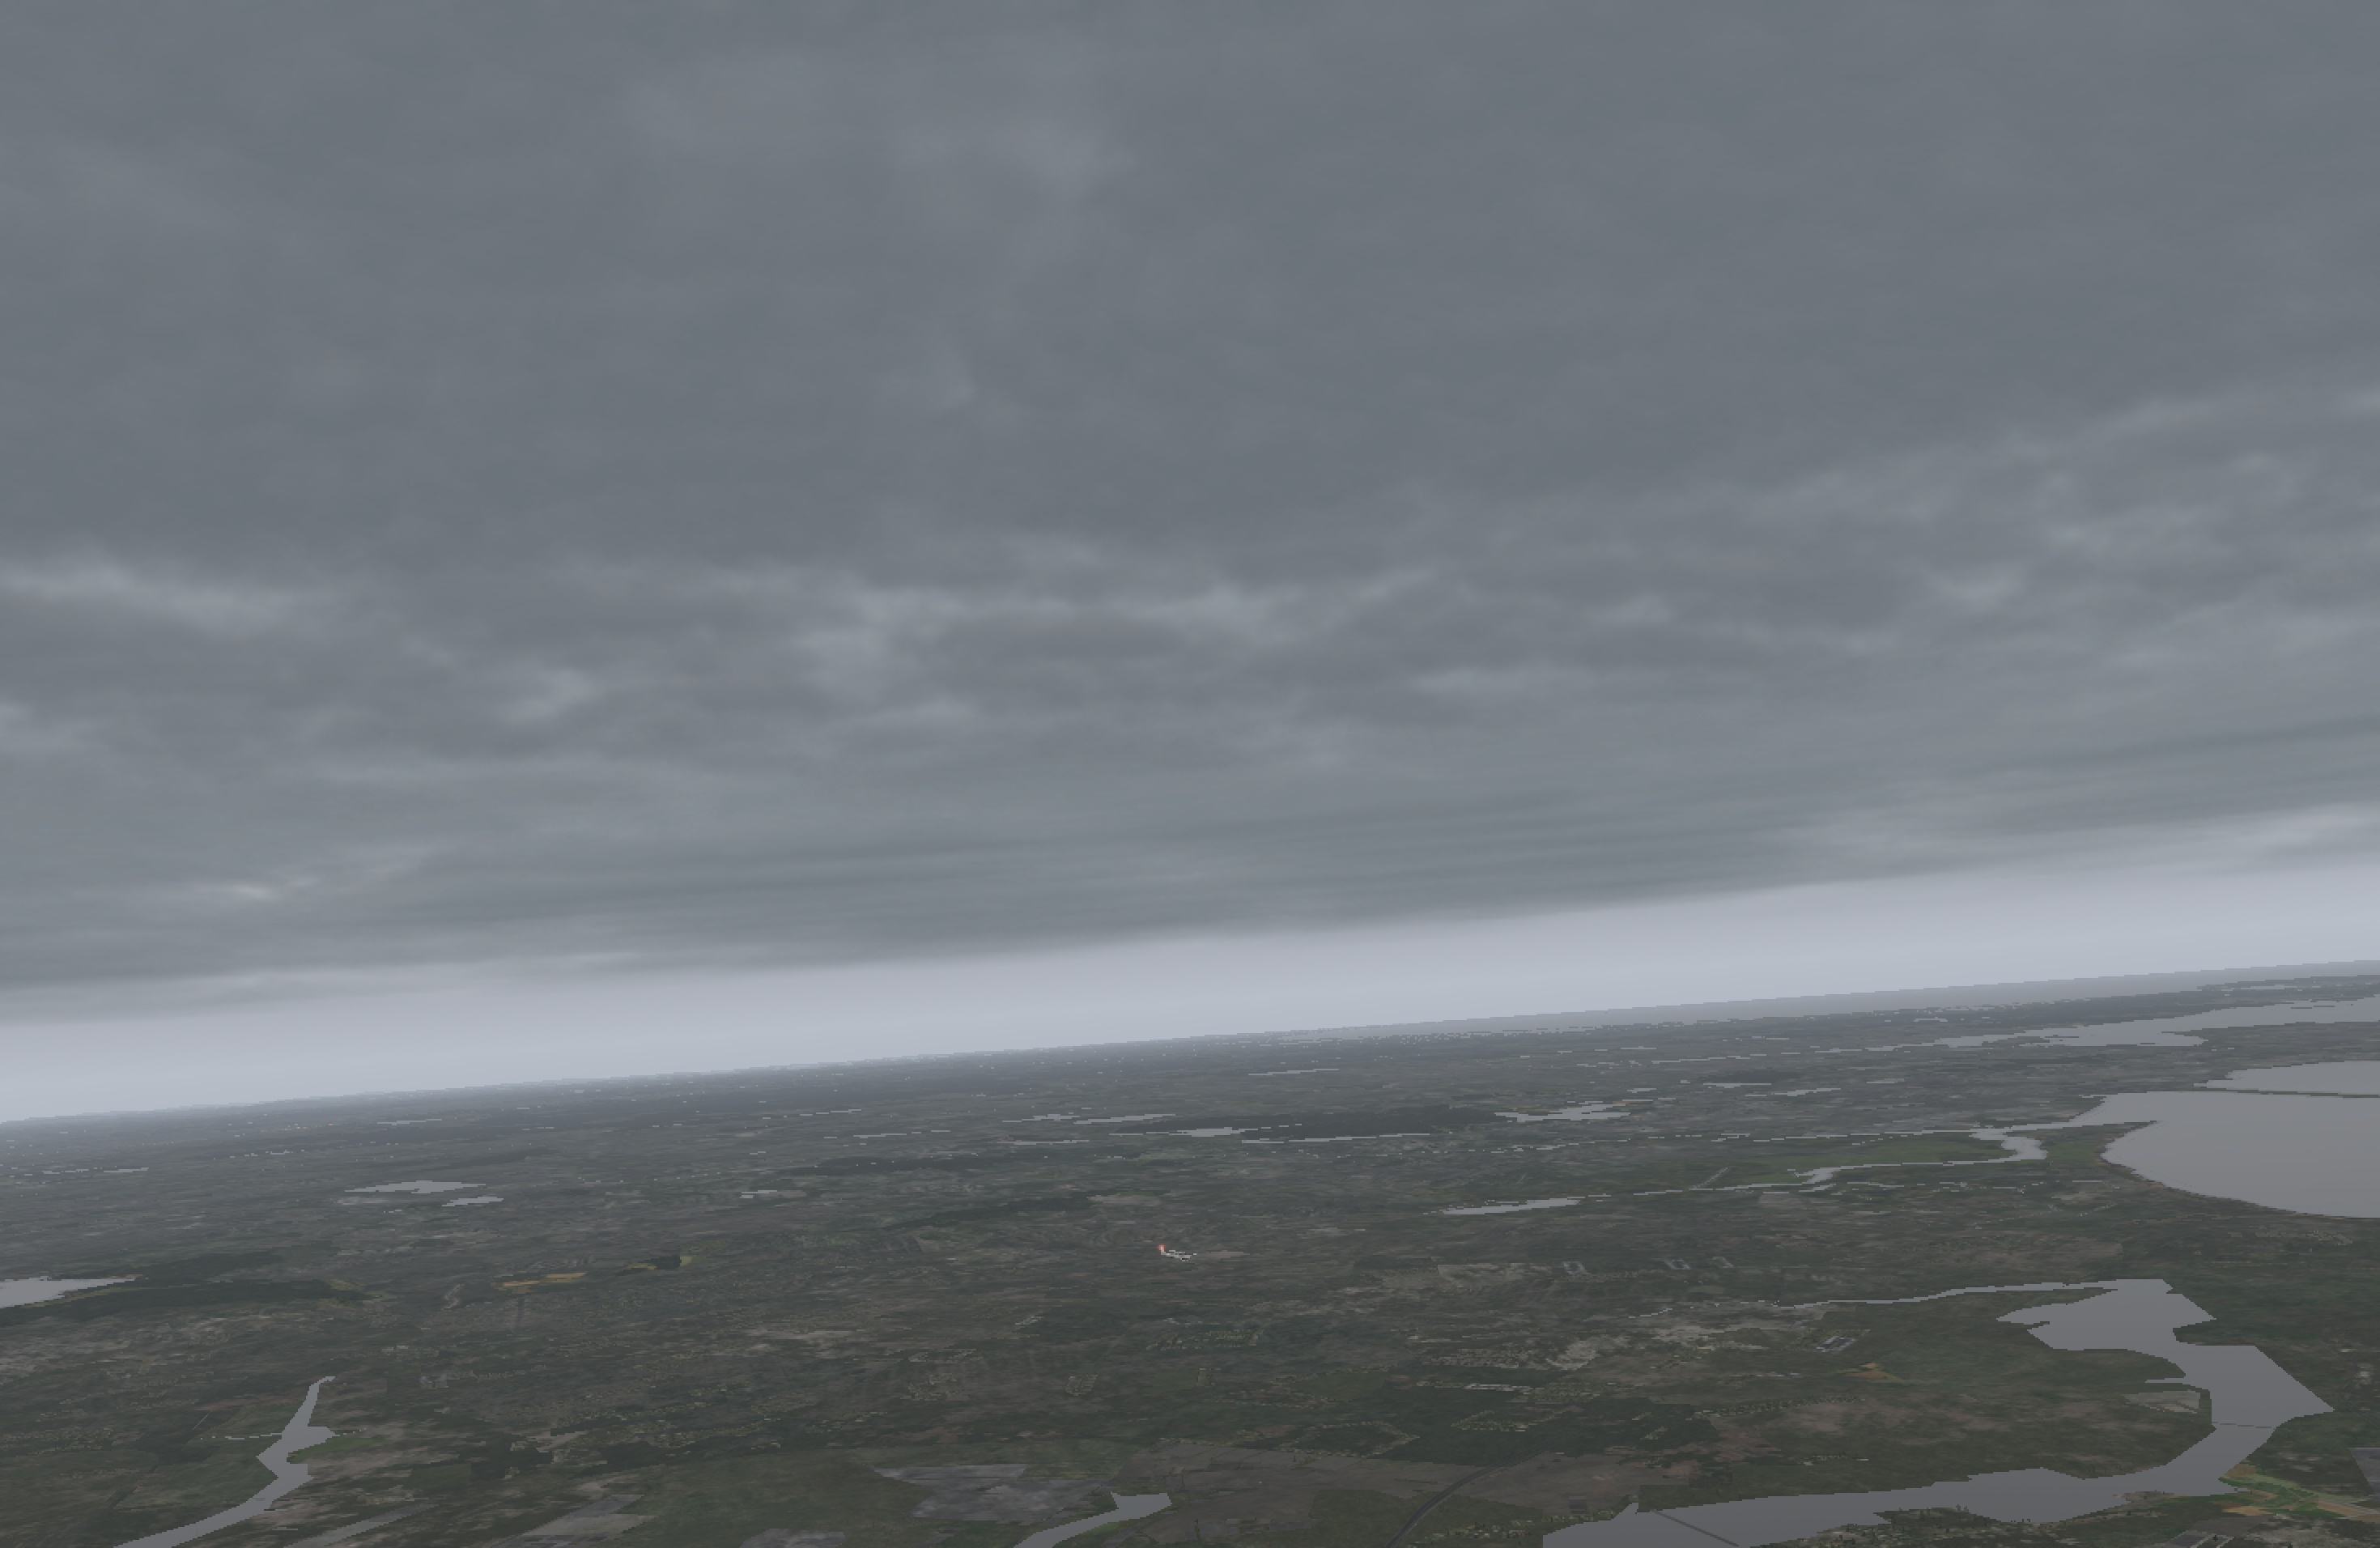aircraft: (1164, 1248, 1200, 1262)
